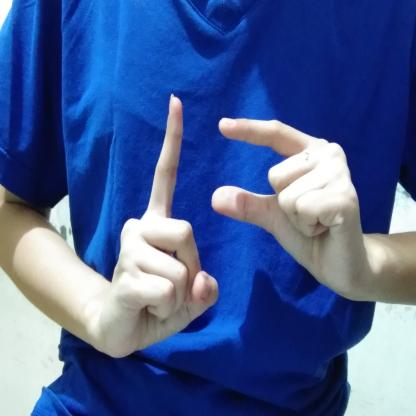daughter: (105, 90, 367, 364)
